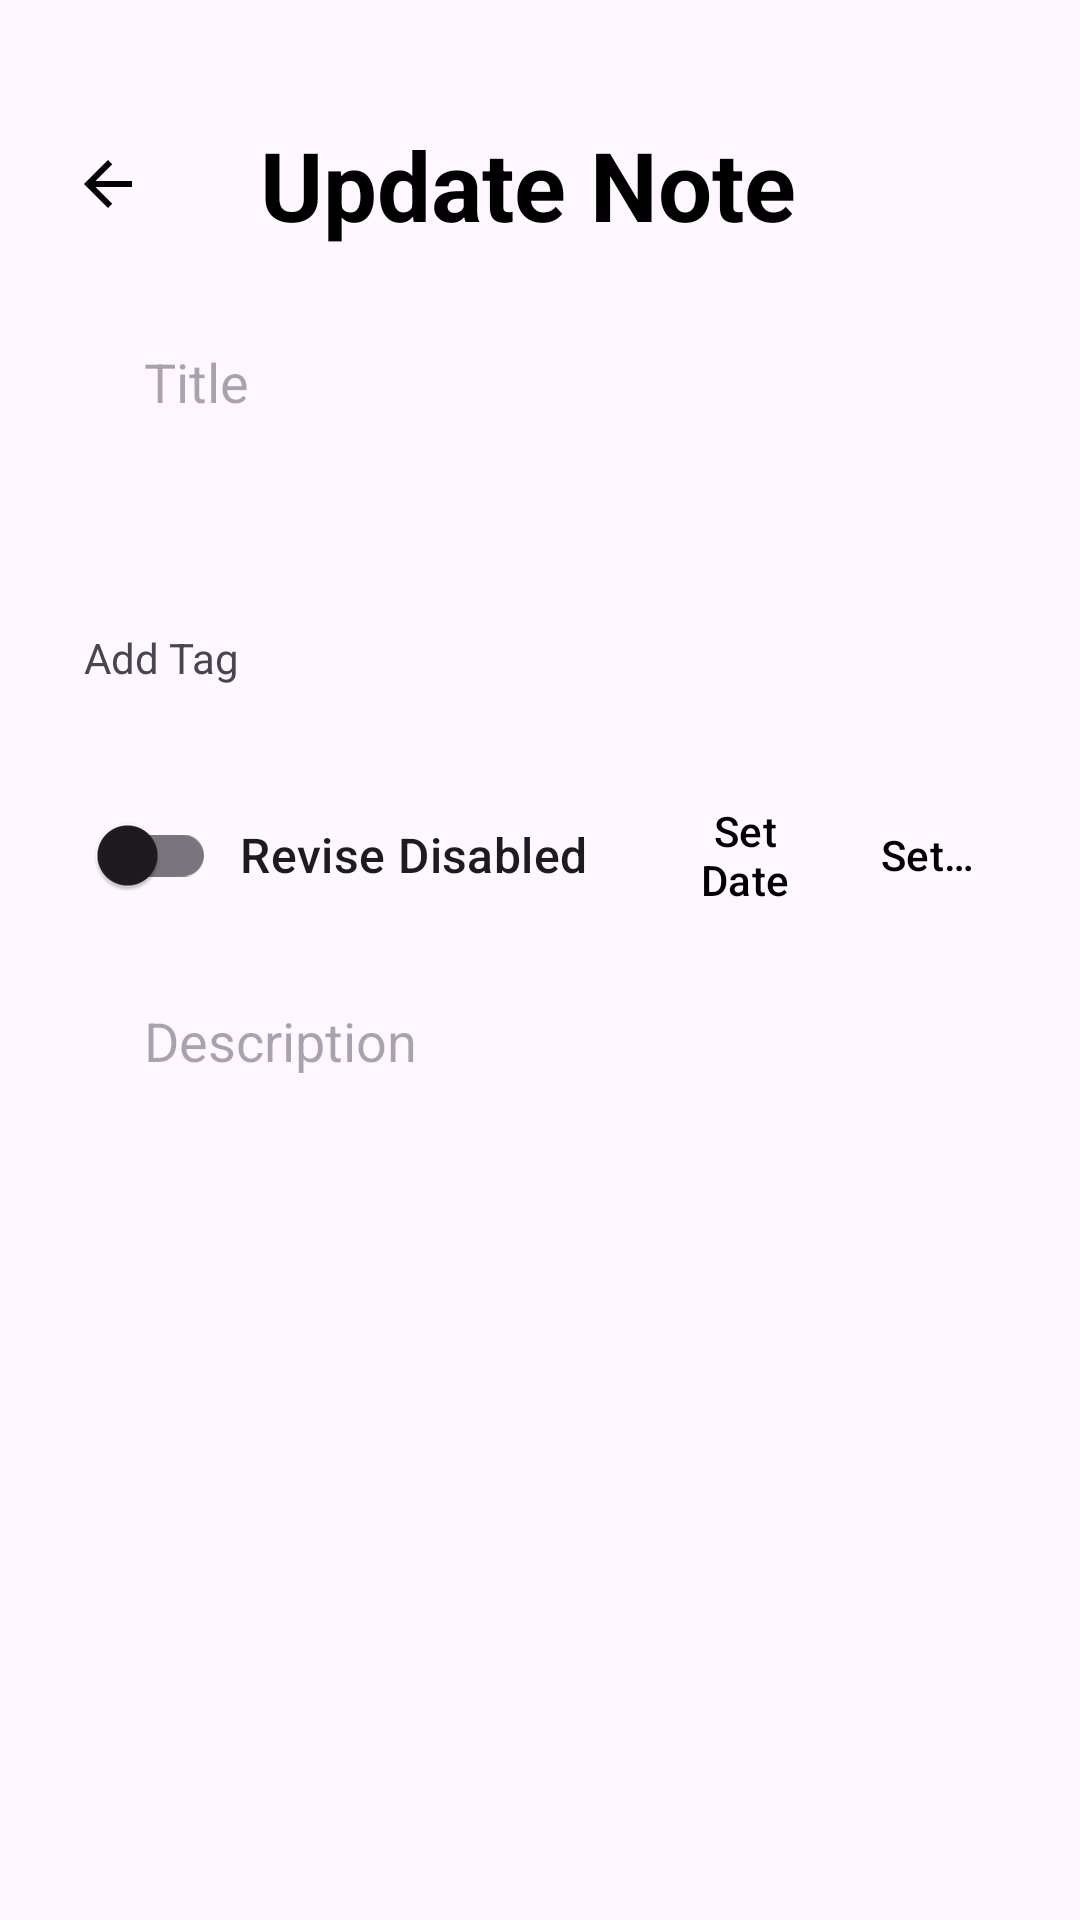

Icon click points for this 1080 x 1920 phone screenshot, format (x,y):
Back Button: (108,184)
